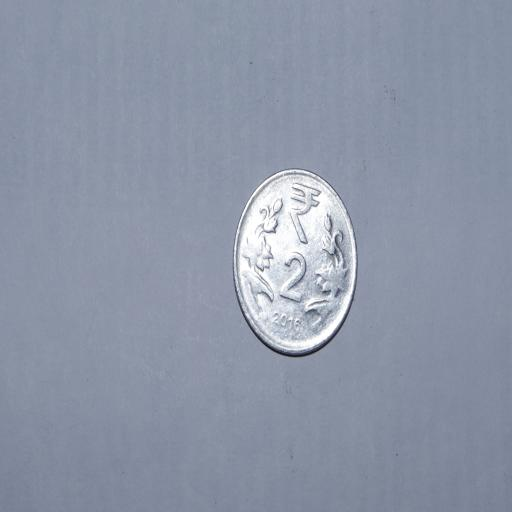rupee2: (231, 170, 360, 360)
